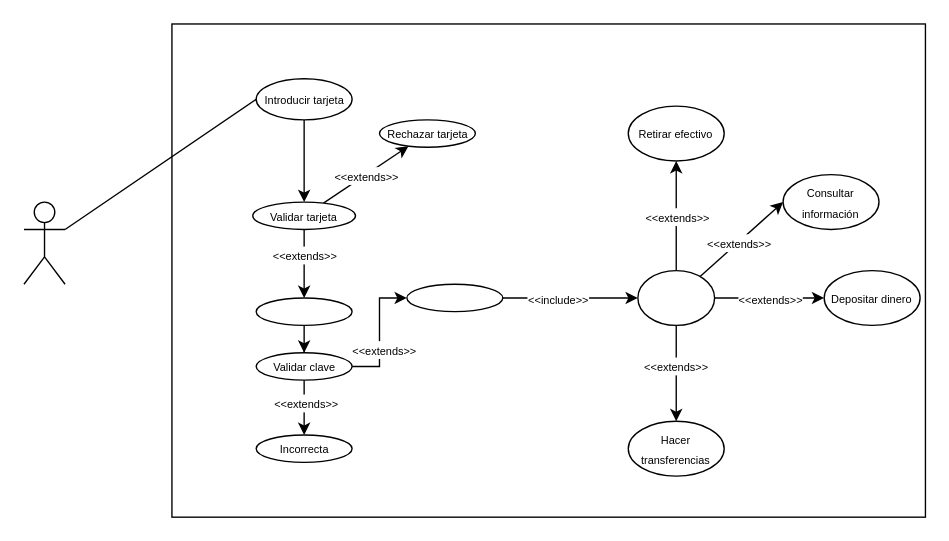
Image size: 949x541. Some labels were removed from this diagram. The shapes that lost their labels are listed below. From the top down, each one's centre as x and y in pixels, then its label:
At pixel 44 242: "Actor".
At pixel 303 311: "Aceptar tarjeta".
At pixel 454 297: "Correcta".
At pixel 676 297: "Realizar operación".
